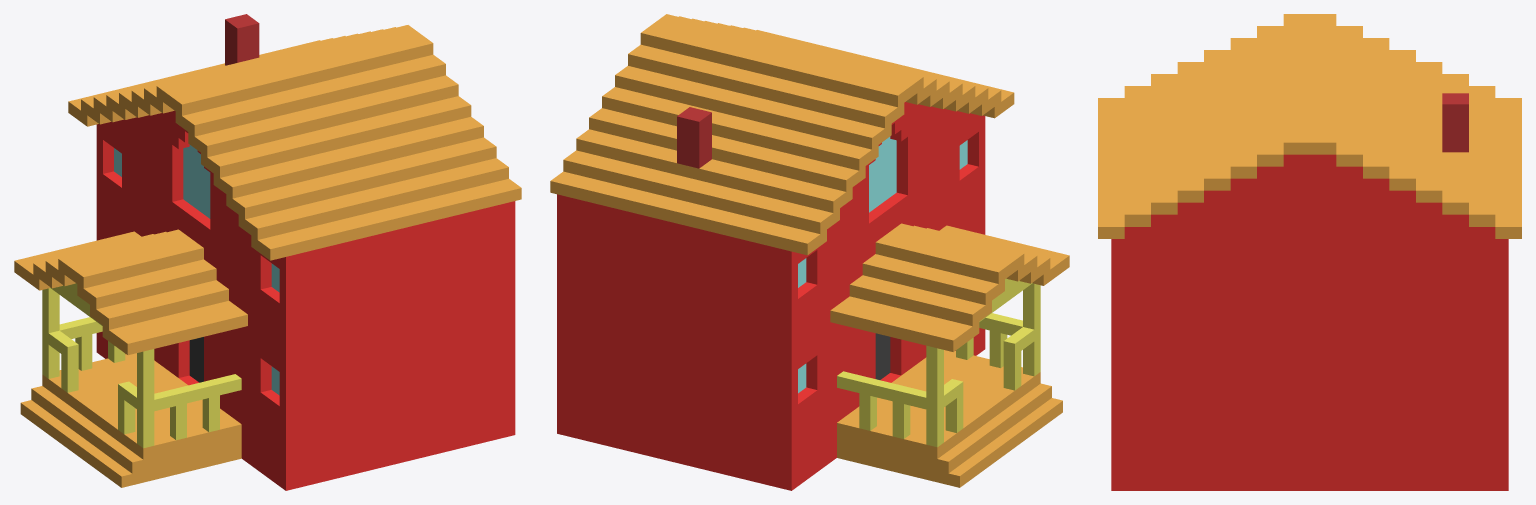
The model's file is cars-16-RedHouse.obj.
3 renders of one model, left to right at view 1: azimuth 30°, elevation 25°; view 2: azimuth 150°, elevation 25°; view 3: azimuth 270°, elevation 25°, orthographic. The views are drawn at different scales.
Visible parts, largest first — view 1: RedHouse; view 2: RedHouse; view 3: RedHouse.
Boxes of the visible parts, <box> form: RedHouse: <box>14,14,521,490</box>; RedHouse: <box>550,14,1069,490</box>; RedHouse: <box>1098,14,1521,490</box>.
Bounding box in the file's own units: 3.2 × 2.9 × 3.2.
Materials: 1 (1 with a texture image).
